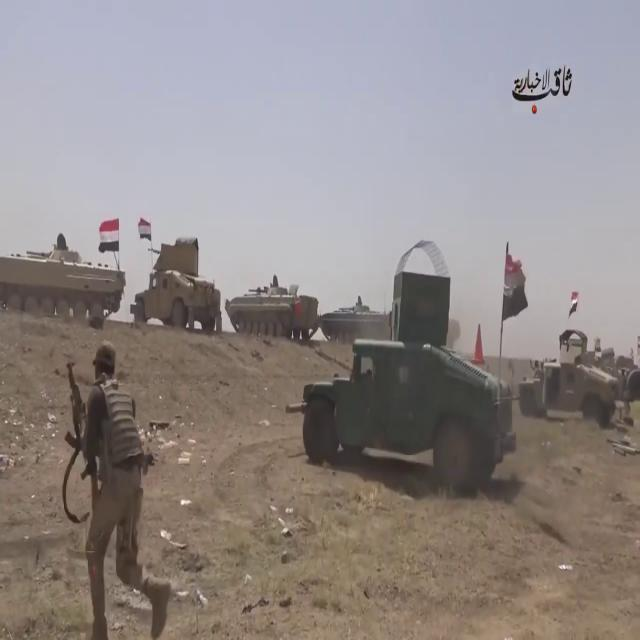long weapon: (52, 356, 109, 514)
